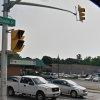Car: (10, 66, 89, 100)
